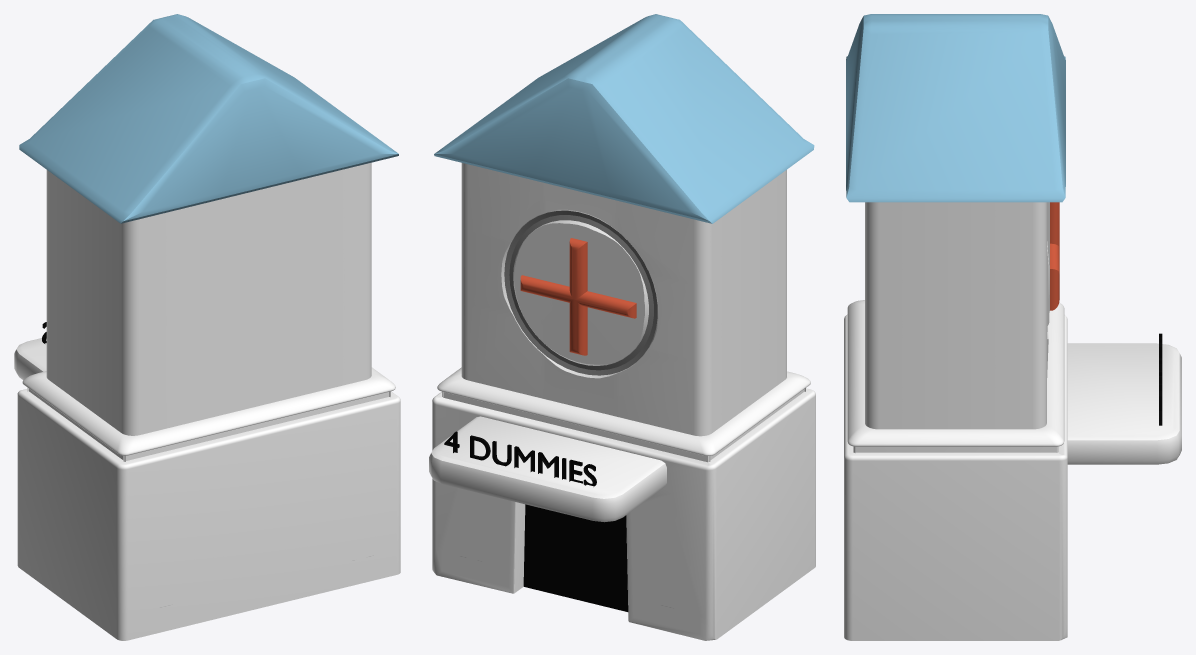
The model's file is hospital.fbx.
3 views of the same model, side by side, from view 1: azimuth 30°, elevation 25°; view 2: azimuth 150°, elevation 25°; view 3: azimuth 270°, elevation 25° (orthographic). The views are drawn at different scales.
Visible parts, largest first — view 1: Cube; view 2: Cube; view 3: Cube.
Part boxes in pixels (box(x1,y1,x2,y2)): Cube: box(14, 14, 400, 640); Cube: box(429, 14, 815, 640); Cube: box(844, 14, 1181, 640).
Bounding box in the file's own units: 307 × 542 × 302.
Materials: 1 (1 with a texture image).
